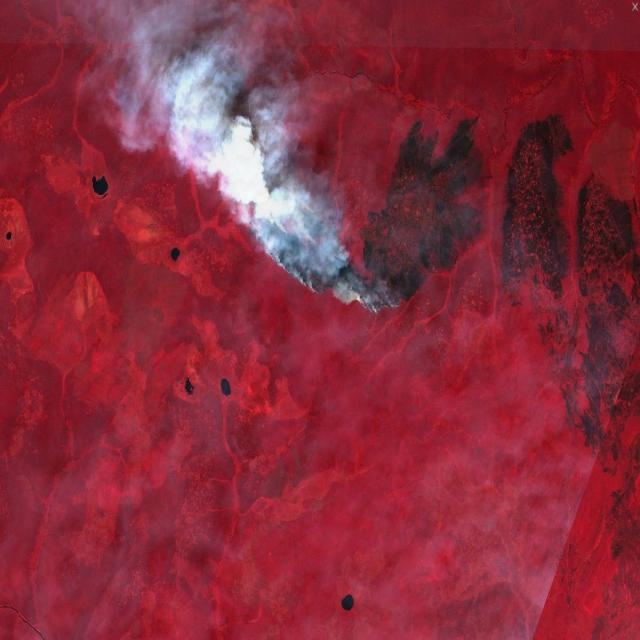fire: (245, 198, 409, 321)
